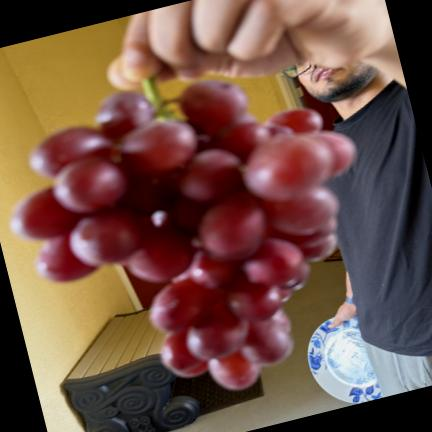grape_cluster: (10, 78, 356, 390)
